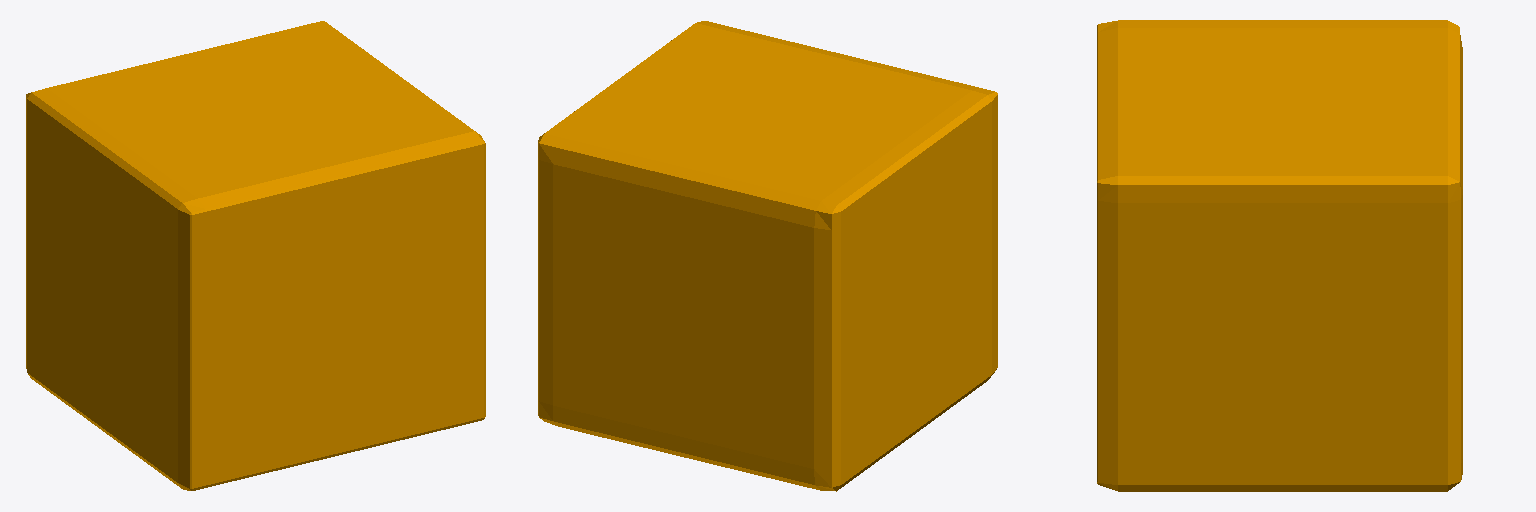
The robot description file, URDF, robot "cylinder_box_158":
<?xml version="1.0" encoding="utf-8"?>  <robot name="cylinder_box_158">   <link name="cylinder_box_158">     <visual>       <geometry>         <mesh filename="../meshes/box/box_158.stl" scale="1 1 1"/>       </geometry>     </visual>     <collision>       <geometry>         <mesh filename="../meshes/box/box_158.stl" scale="1 1 1"/>       </geometry>     </collision>     <inertial>        <origin         xyz="0 0 0"         rpy="0 0 0" />       <mass value="0.8325891945766273"/>       <origin rpy="0 0 0" xyz="0 0 0"/>       <inertia ixx="0.0011702808648674998" ixy="-3.031506495322966e-07" ixz="1.623683724282928e-07" iyy="0.0012287441308863742" iyz="4.352707132261173e-07" izz="0.0012820647078628136"/>     </inertial>   </link>  </robot>

--- Render facts (derived) ---
3 views of the same robot in one strip: view 1: azimuth 30°, elevation 25°; view 2: azimuth 150°, elevation 25°; view 3: azimuth 270°, elevation 25° (orthographic).
Robot: cylinder_box_158 — 1 links, 0 joints (none); root link cylinder_box_158; default pose: all joints at 0.
Links seen in each view (by area): view 1: cylinder_box_158; view 2: cylinder_box_158; view 3: cylinder_box_158.
Boxes of the visible links, box(x1,y1,x2,y2) form: cylinder_box_158: box(26, 21, 485, 490); cylinder_box_158: box(538, 21, 997, 491); cylinder_box_158: box(1097, 20, 1462, 491).
Bounding box of the posed robot: 0.0986 × 0.0943 × 0.0901 m (x, y, z).
Meshes: 1 distinct files referenced, 1 mesh visuals loaded (1 binary STL).